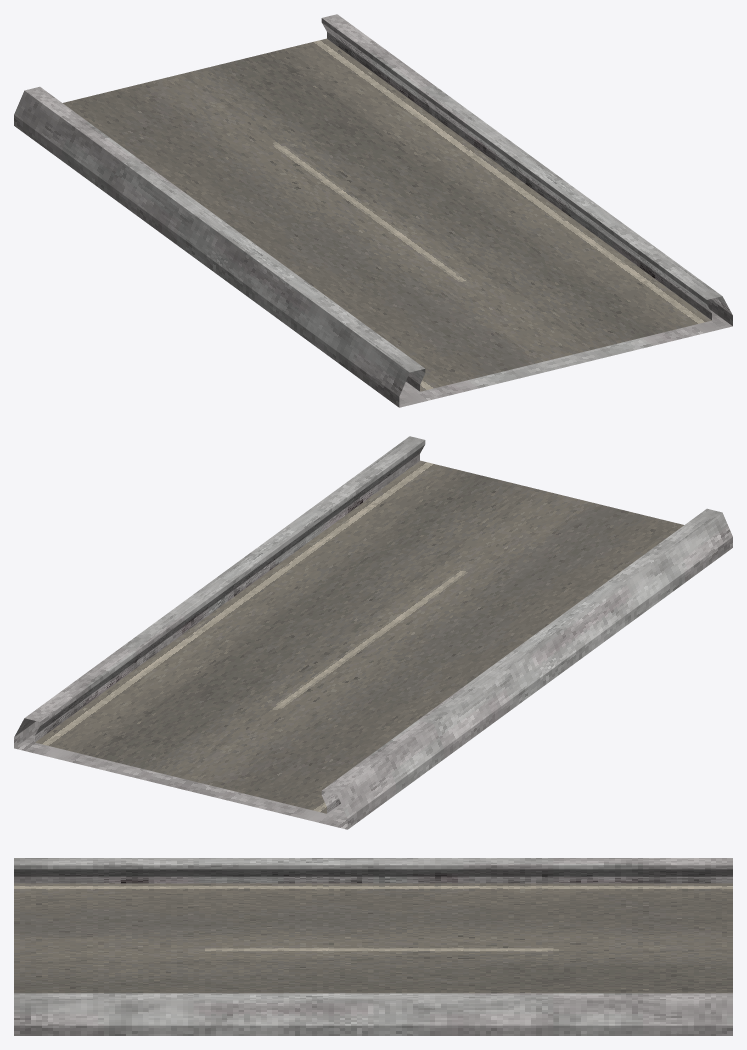
File: road-Straight-Flat-Flat-Even-Center-Size2.glb
3 renders of one model, top to bottom at view 1: azimuth 30°, elevation 25°; view 2: azimuth 150°, elevation 25°; view 3: azimuth 270°, elevation 25°, orthographic. The views are drawn at different scales.
Visible parts, largest first — view 1: road-Straight-Flat-Flat-Even-Center-Size2; view 2: road-Straight-Flat-Flat-Even-Center-Size2; view 3: road-Straight-Flat-Flat-Even-Center-Size2.
Boxes of the visible parts, x1=… form: road-Straight-Flat-Flat-Even-Center-Size2: x1=14, y1=14, x2=732, y2=407; road-Straight-Flat-Flat-Even-Center-Size2: x1=14, y1=436, x2=732, y2=829; road-Straight-Flat-Flat-Even-Center-Size2: x1=14, y1=858, x2=732, y2=1035.
Size of the model in its own units: 1 by 0.0938 by 2.
Materials: 2 (2 with a texture image).
